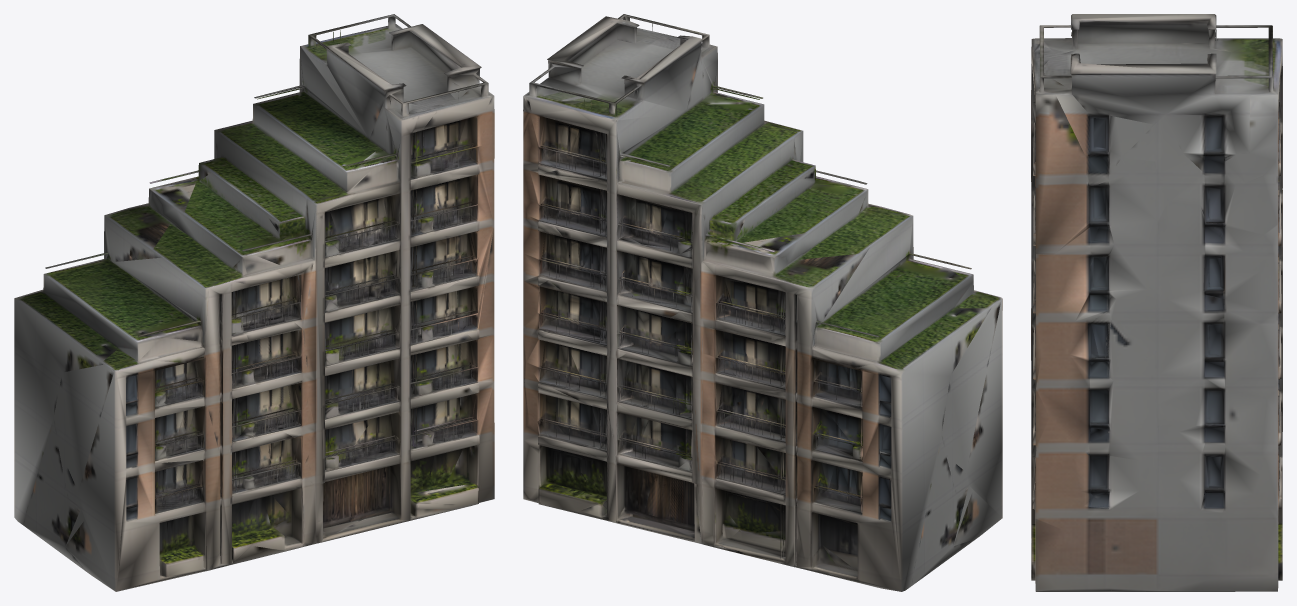
File: passiona-jade-court-apartments.glb
The picture shows the model from 3 angles, left to right: view 1: azimuth 30°, elevation 25°; view 2: azimuth 150°, elevation 25°; view 3: azimuth 270°, elevation 25°; orthographic projection. The views are drawn at different scales.
Visible parts, largest first — view 1: node_0; view 2: node_0; view 3: node_0.
Boxes of the visible parts, left/top/right/bottom form: node_0: left=14, top=14, right=494, bottom=591; node_0: left=523, top=14, right=1002, bottom=591; node_0: left=1031, top=14, right=1282, bottom=591.
Bounding box in the file's own units: 0.7878 × 0.8346 × 0.3653.
Materials: 1 (1 with a texture image).
